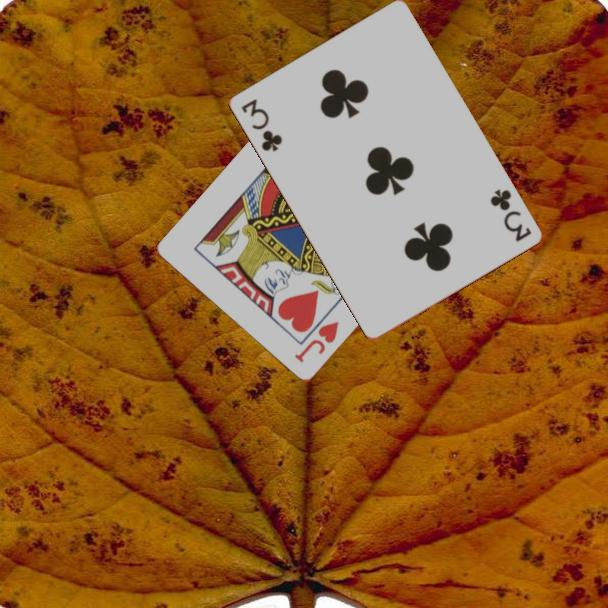c03: (237, 95, 285, 155), (486, 185, 534, 245)
h11: (291, 318, 342, 366)
